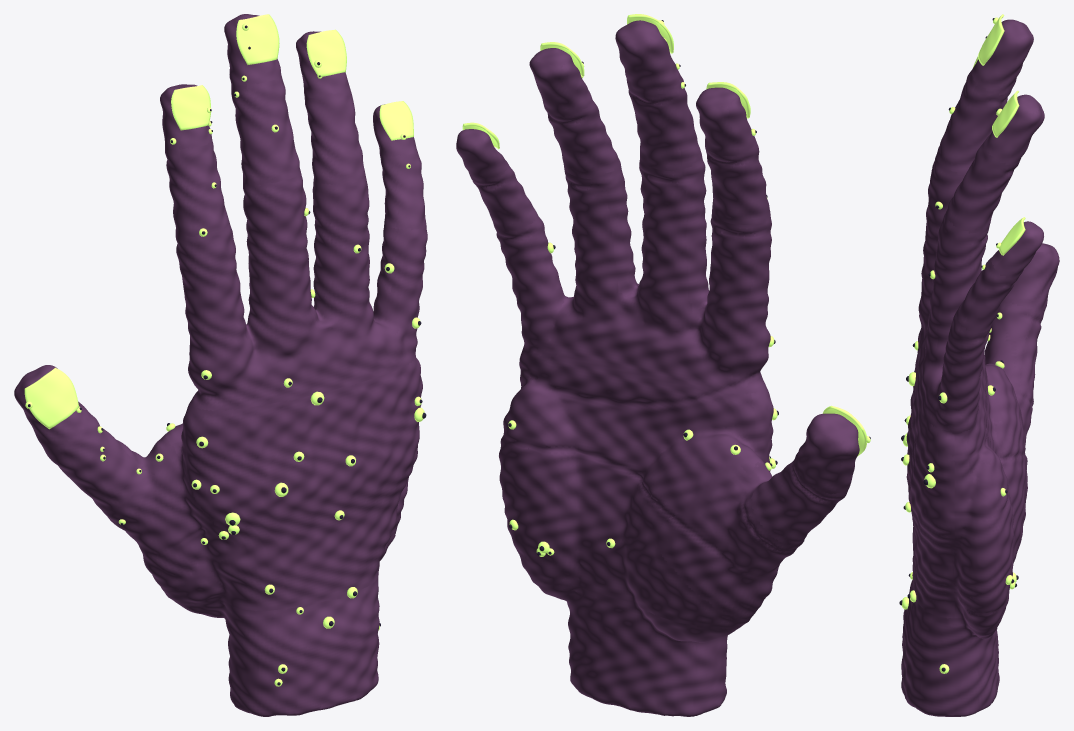
File: family-12.glb
The picture shows the model from 3 angles, left to right: view 1: azimuth 30°, elevation 25°; view 2: azimuth 150°, elevation 25°; view 3: azimuth 270°, elevation 25°; orthographic projection. The views are drawn at different scales.
Parts seen in each view (by area): view 1: knuckles__knuckles_sculpt, back_of_hand__back_of_hand_sculpt, middle_sections__middle_sections_sculpt, wrist__wrist_sculpt, fingertips__fingertips_sculpt, palm__palm_sculpt, nails__thumb_claw, nails__middle_claw, back_of_hand, nails__ring_claw, nails__index_claw, nails__pinky_claw (+1 smaller); view 2: knuckles__knuckles_sculpt, palm__palm_sculpt, middle_sections__middle_sections_sculpt, wrist__wrist_sculpt, fingertips__fingertips_sculpt; view 3: palm__palm_sculpt, knuckles__knuckles_sculpt, middle_sections__middle_sections_sculpt, wrist__wrist_sculpt, fingertips__fingertips_sculpt, back_of_hand__back_of_hand_sculpt, back_of_hand, nails__middle_claw, nails__ring_claw, nails__pinky_claw, palm.
Part boxes in pixels (x1,y1,x2,y2): knuckles__knuckles_sculpt: [102, 172, 427, 593]; back_of_hand__back_of_hand_sculpt: [185, 355, 422, 611]; middle_sections__middle_sections_sculpt: [44, 77, 426, 511]; wrist__wrist_sculpt: [175, 558, 382, 716]; fingertips__fingertips_sculpt: [14, 14, 418, 450]; palm__palm_sculpt: [164, 400, 408, 604]; nails__thumb_claw: [24, 367, 78, 429]; nails__middle_claw: [236, 14, 279, 64]; back_of_hand: [191, 391, 426, 598]; nails__ring_claw: [306, 29, 346, 77]; nails__index_claw: [171, 85, 210, 130]; nails__pinky_claw: [379, 101, 413, 140]; knuckles__knuckles_sculpt: [494, 152, 804, 619]; palm__palm_sculpt: [499, 340, 769, 629]; middle_sections__middle_sections_sculpt: [470, 74, 850, 545]; wrist__wrist_sculpt: [529, 575, 741, 716]; fingertips__fingertips_sculpt: [456, 20, 859, 494]; palm__palm_sculpt: [953, 354, 1025, 630]; knuckles__knuckles_sculpt: [915, 155, 1033, 500]; middle_sections__middle_sections_sculpt: [936, 70, 1043, 392]; wrist__wrist_sculpt: [901, 579, 999, 716]; fingertips__fingertips_sculpt: [971, 19, 1059, 315]; back_of_hand__back_of_hand_sculpt: [906, 369, 954, 618]; back_of_hand: [901, 372, 935, 602]; nails__middle_claw: [978, 14, 1004, 65]; nails__ring_claw: [992, 90, 1019, 137]; nails__pinky_claw: [998, 217, 1025, 255]; palm: [988, 360, 1018, 589].
Bounding box in the file's own units: 0.1319 × 0.2173 × 0.048.
3 materials, 1 textured.
